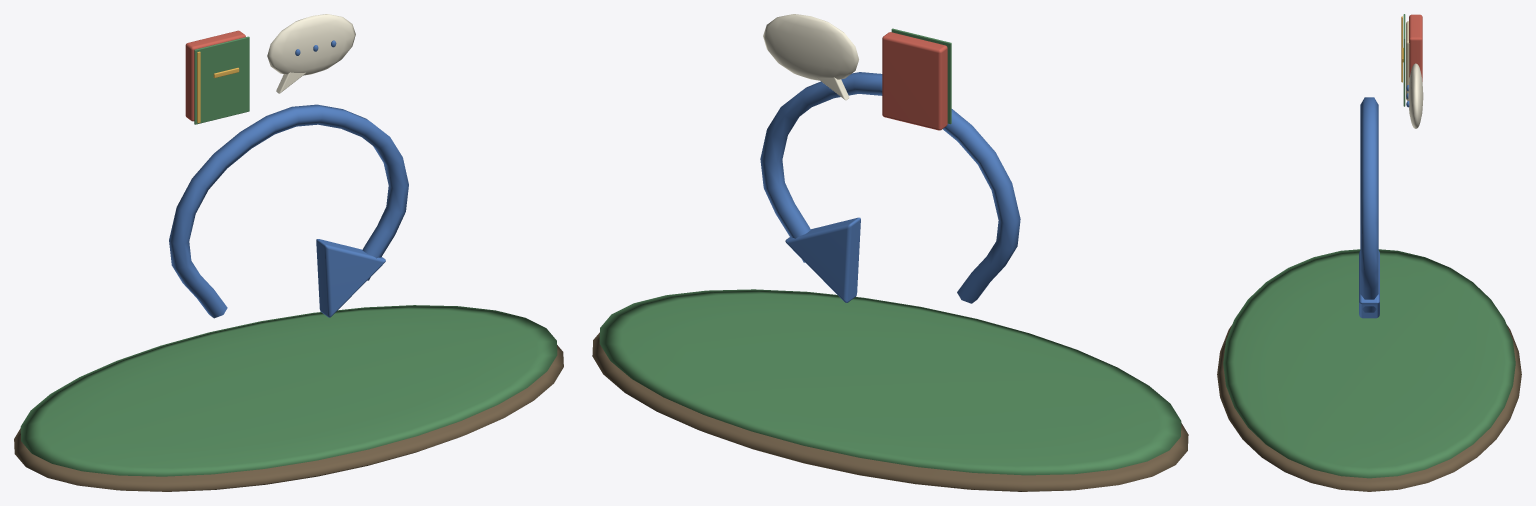
File: complete-third-moving-literary-page.glb
The picture shows the model from 3 angles, left to right: view 1: azimuth 30°, elevation 25°; view 2: azimuth 150°, elevation 25°; view 3: azimuth 270°, elevation 25°; orthographic projection. The views are drawn at different scales.
Visible parts, largest first — view 1: complete-third-moving-literary-page_surface_01, complete-third-moving-literary-page_surface_02, complete-third-moving-literary-page_surface_00, complete-third-moving-literary-page_surface_06, complete-third-moving-literary-page_surface_03; view 2: complete-third-moving-literary-page_surface_01, complete-third-moving-literary-page_surface_02, complete-third-moving-literary-page_surface_00, complete-third-moving-literary-page_surface_03, complete-third-moving-literary-page_surface_06; view 3: complete-third-moving-literary-page_surface_01, complete-third-moving-literary-page_surface_00, complete-third-moving-literary-page_surface_02, complete-third-moving-literary-page_surface_06, complete-third-moving-literary-page_surface_03.
Part boxes in pixels (x1,y1,x2,y2): complete-third-moving-literary-page_surface_01: [20, 36, 557, 476]; complete-third-moving-literary-page_surface_02: [169, 40, 408, 318]; complete-third-moving-literary-page_surface_00: [14, 345, 563, 491]; complete-third-moving-literary-page_surface_06: [267, 14, 355, 93]; complete-third-moving-literary-page_surface_03: [185, 30, 245, 121]; complete-third-moving-literary-page_surface_01: [599, 28, 1181, 475]; complete-third-moving-literary-page_surface_02: [760, 72, 1020, 303]; complete-third-moving-literary-page_surface_00: [592, 332, 1188, 491]; complete-third-moving-literary-page_surface_03: [882, 32, 947, 130]; complete-third-moving-literary-page_surface_06: [763, 14, 858, 100]; complete-third-moving-literary-page_surface_01: [1223, 14, 1515, 478]; complete-third-moving-literary-page_surface_00: [1217, 324, 1521, 491]; complete-third-moving-literary-page_surface_02: [1359, 85, 1409, 318]; complete-third-moving-literary-page_surface_06: [1408, 63, 1423, 128]; complete-third-moving-literary-page_surface_03: [1409, 14, 1422, 81].
Bounding box in the file's own units: 4.56 × 3.09 × 2.5.
